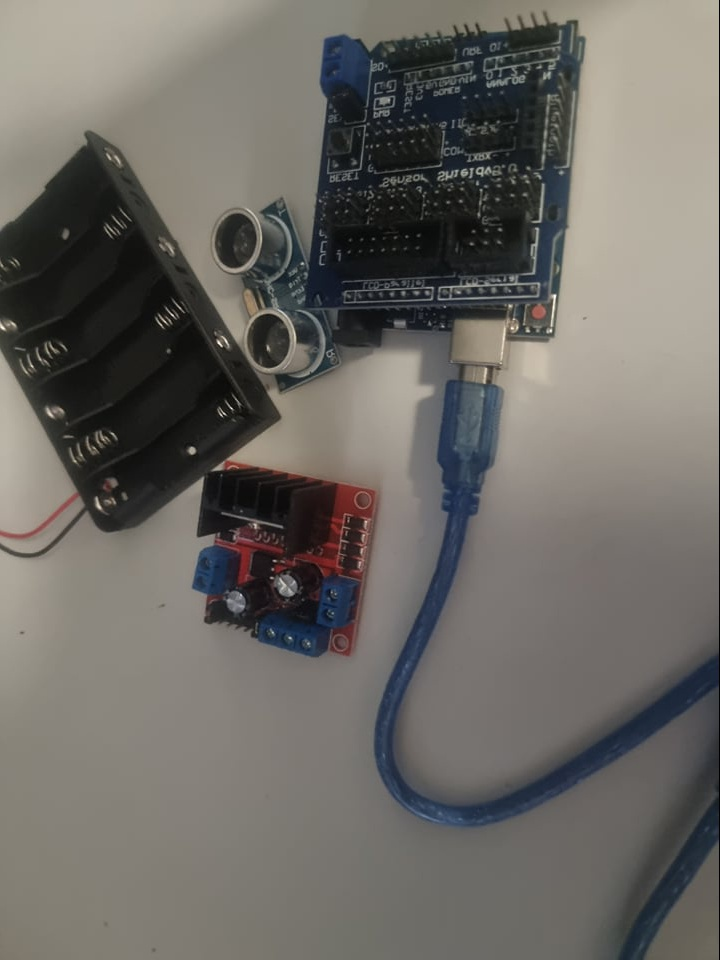5V EXPANSION: (318, 15, 566, 308)
BATTERY BOX: (1, 120, 284, 538)
MOTOR: (205, 459, 377, 662)
SENSOR: (216, 195, 339, 396)
UNO R3: (335, 306, 563, 371)
